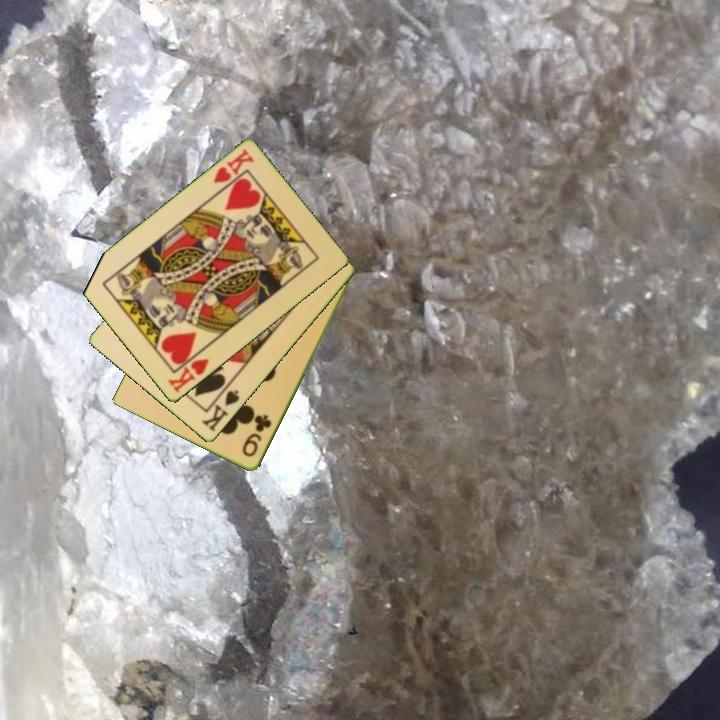9c: (238, 411, 275, 461)
Kh: (164, 346, 212, 396), (209, 146, 257, 187)
Ks: (198, 381, 242, 435)
